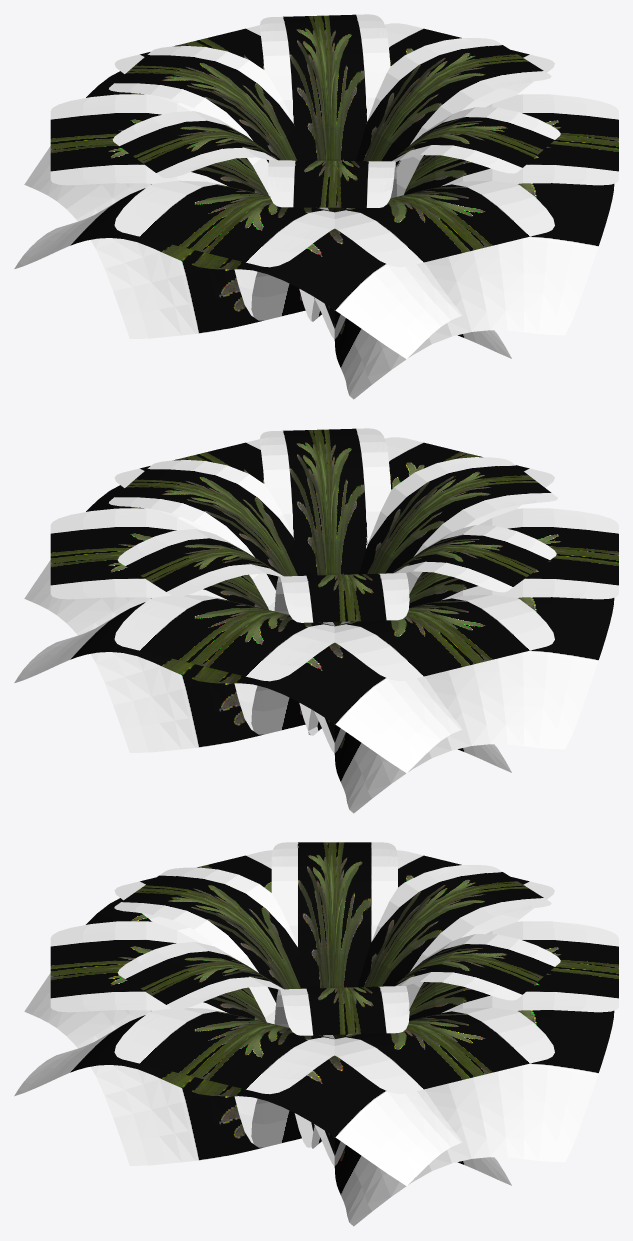
The model's file is grass_type_5.fbx.
3 views of the same model, one above another, from view 1: azimuth 30°, elevation 25°; view 2: azimuth 150°, elevation 25°; view 3: azimuth 270°, elevation 25° (orthographic).
Visible parts, largest first — view 1: grass_type_5; view 2: grass_type_5; view 3: grass_type_5.
Boxes of the visible parts, box(x1,y1,x2,y2) form: grass_type_5: box(14, 14, 618, 399); grass_type_5: box(14, 428, 618, 813); grass_type_5: box(14, 842, 618, 1226).
Bounding box in the file's own units: 47.74 × 16.58 × 45.46.
